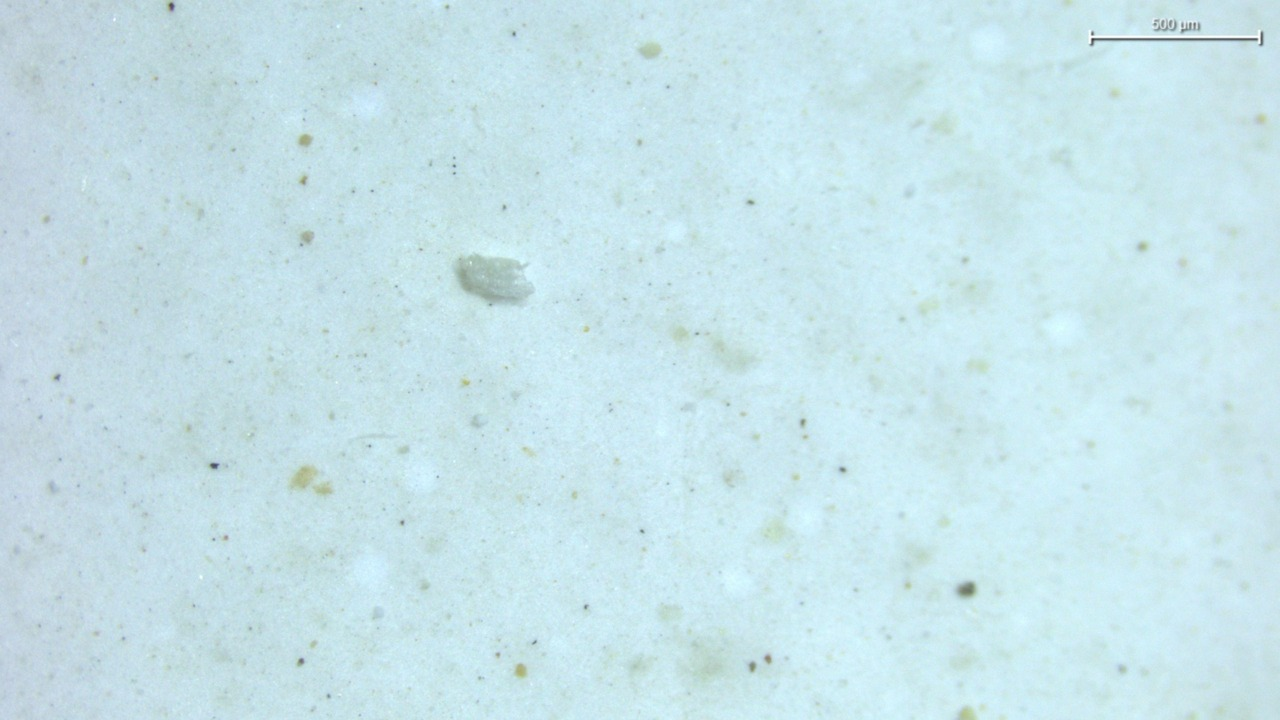microplastic_fragment: (456, 254, 534, 302)
